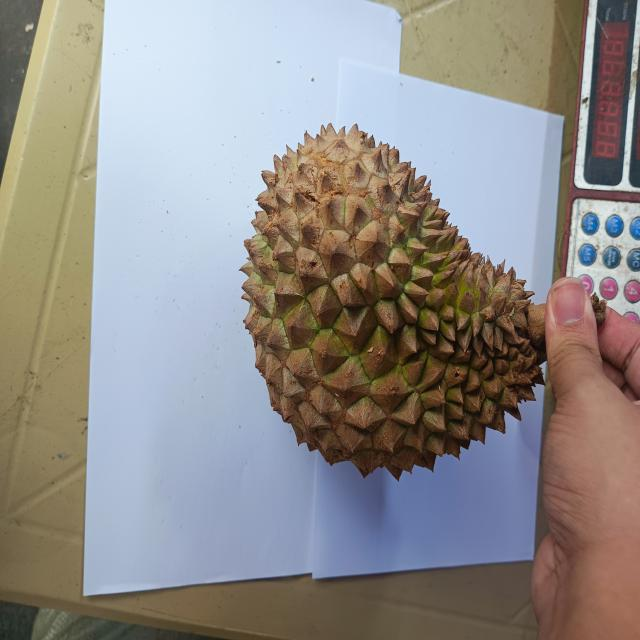mature: (241, 125, 542, 478)
